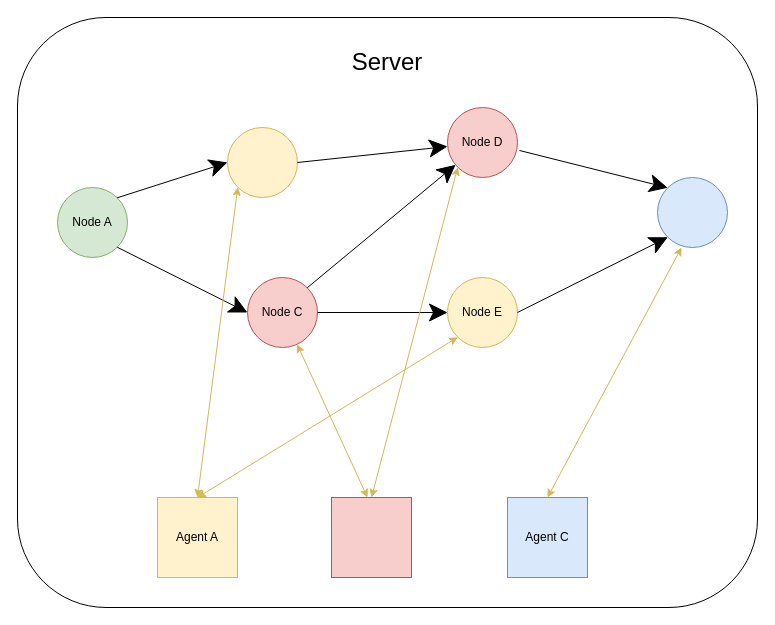
Some shapes in this 775 by 625 pixel diagram are drawn without their labels. Here are the shapes that lost their labels. From the top down, the box of each, then its label:
(226, 126, 298, 198): Node B
(656, 176, 728, 248): Node F
(330, 496, 412, 578): Agent B
